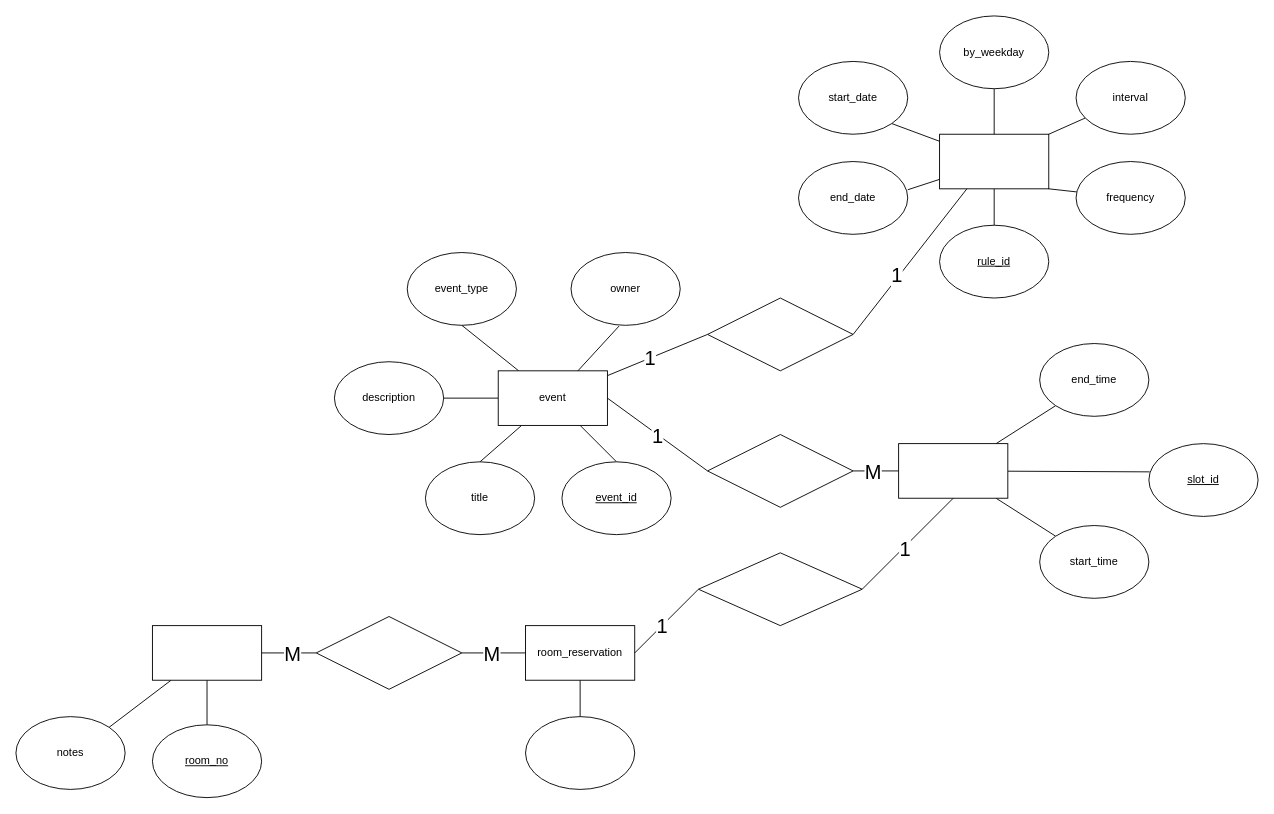
Some shapes in this 1274 by 814 pixel diagram are drawn without their labels. The shapes that lost their labels are listed below. From the top down, each one's box as (x1, y1, x2, y2) in pixels, then its label:
(939, 133, 1049, 189): recurrence_rule
(707, 297, 853, 371): HasRule
(707, 434, 853, 507): Occurs During
(898, 443, 1008, 498): event_time_slot
(698, 552, 862, 626): Reserves
(152, 625, 262, 680): room
(315, 616, 462, 689): LocatedIn
(525, 716, 635, 789): reservation_id
